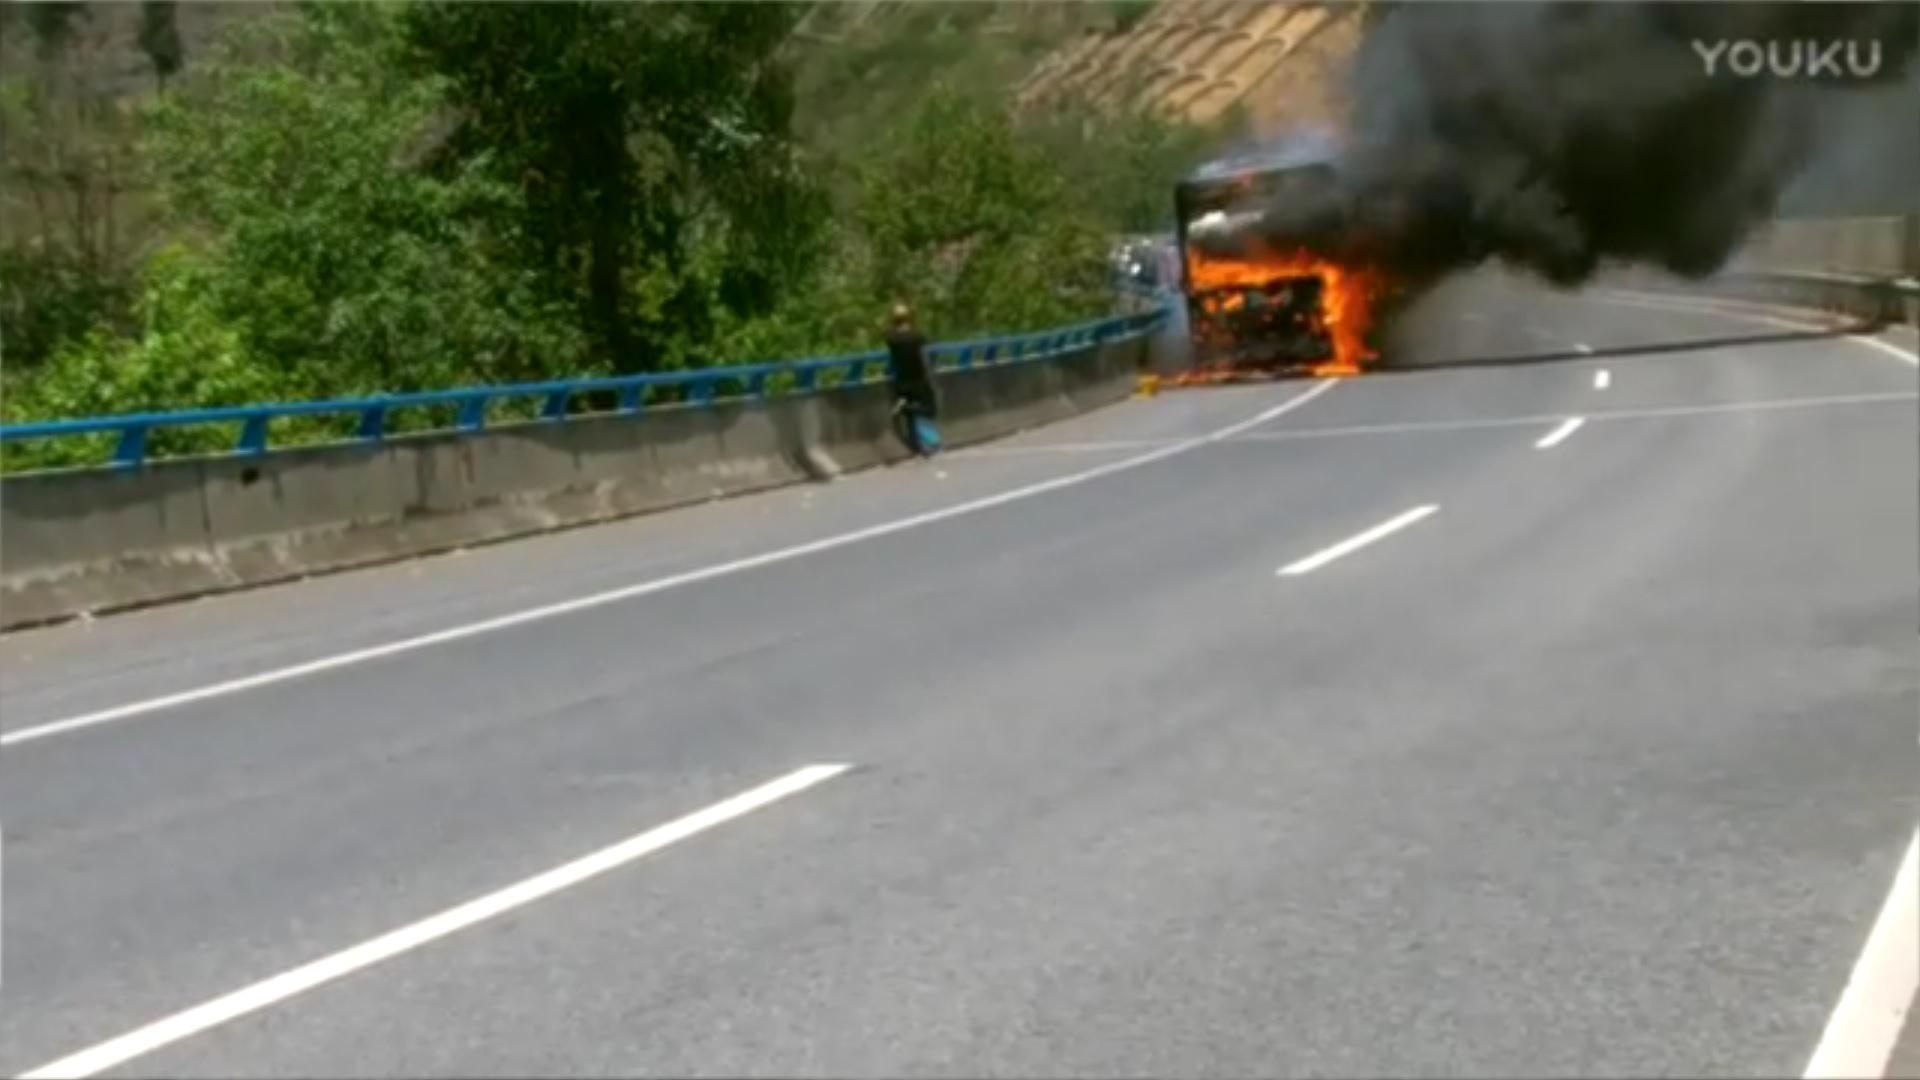fire: (1153, 243, 1371, 389)
